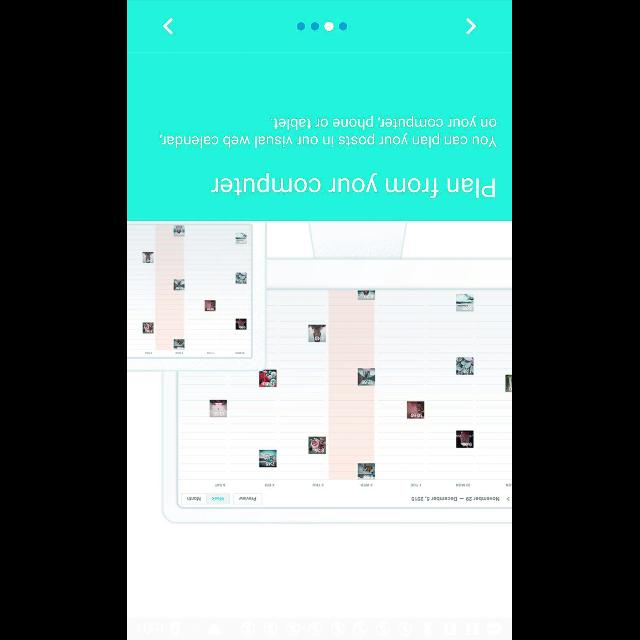icon: (466, 16, 478, 36), (162, 17, 174, 35)
image: (130, 221, 512, 525)
pageindicator: (296, 20, 349, 32)
text: (160, 114, 498, 148), (212, 172, 496, 198)
uppertaskbar: (128, 617, 512, 639)
